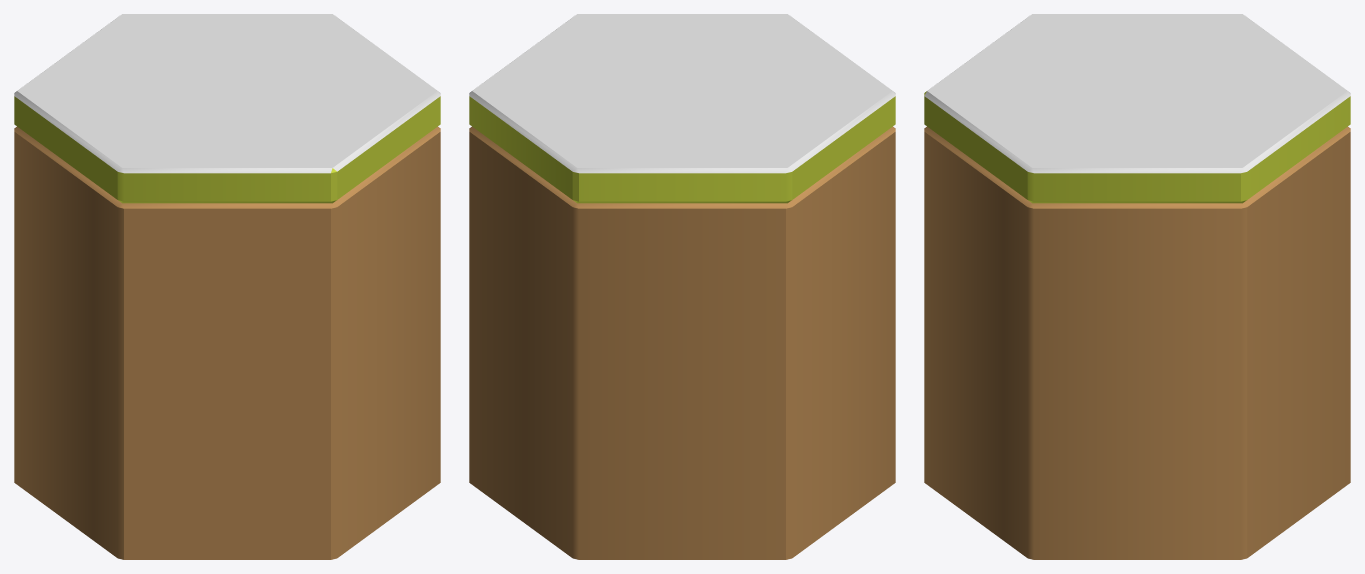
Rendered from Tile (v.2).fbx.
3 renders of one model, left to right at view 1: azimuth 30°, elevation 25°; view 2: azimuth 150°, elevation 25°; view 3: azimuth 270°, elevation 25°, orthographic.
Parts seen in each view (by area): view 1: ground; view 2: ground; view 3: ground.
Boxes of the visible parts, bbox=[...] form: ground: bbox=[14, 14, 440, 559]; ground: bbox=[469, 14, 895, 559]; ground: bbox=[924, 14, 1350, 559].
Size of the model in its own units: 173 by 200 by 198.
